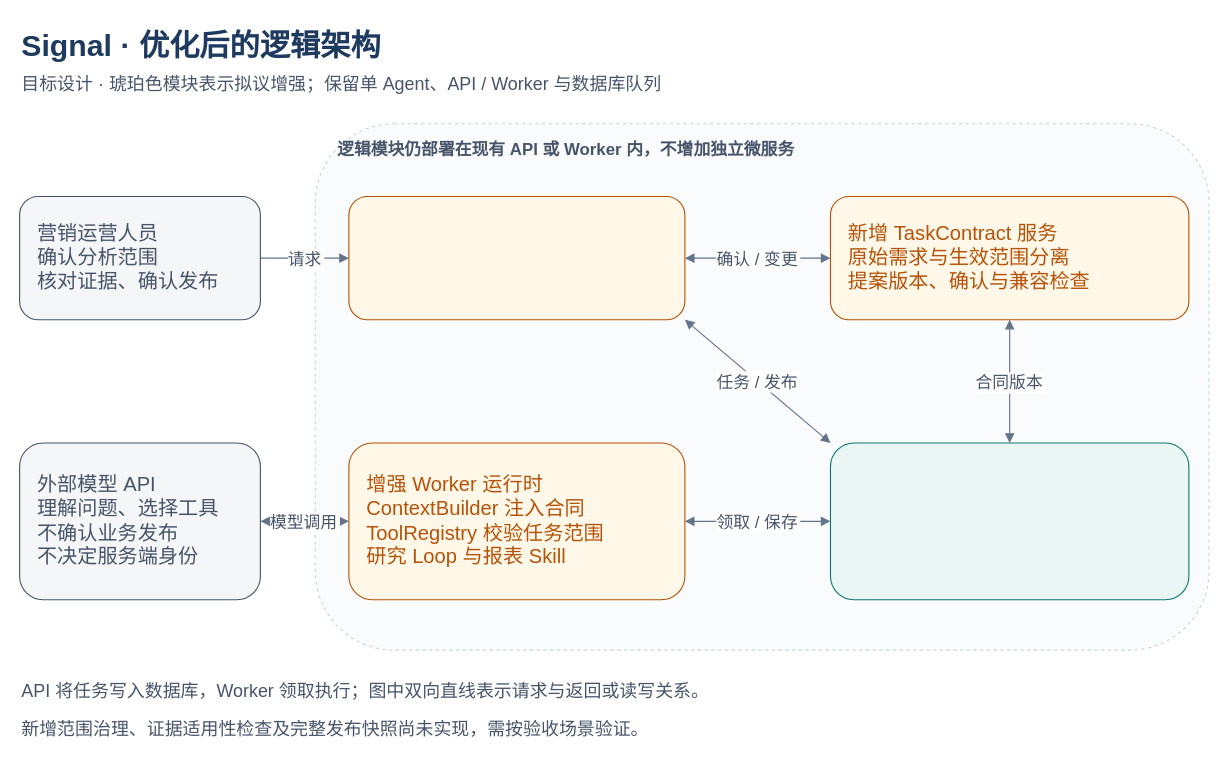
Image size: 1229x763. Some labels were removed from this diagram. The centre of each missing label's shape, as x and y in pixels:
"PostgreSQL 目标、Run、证据、结论 新增：合同、审阅信息 扩展：完整交付快照" goes at (x=1009, y=521).
"工作台与 FastAPI 身份 / 版本 / SSE 事件 增强：发布审查与完整快照" goes at (x=516, y=257).
